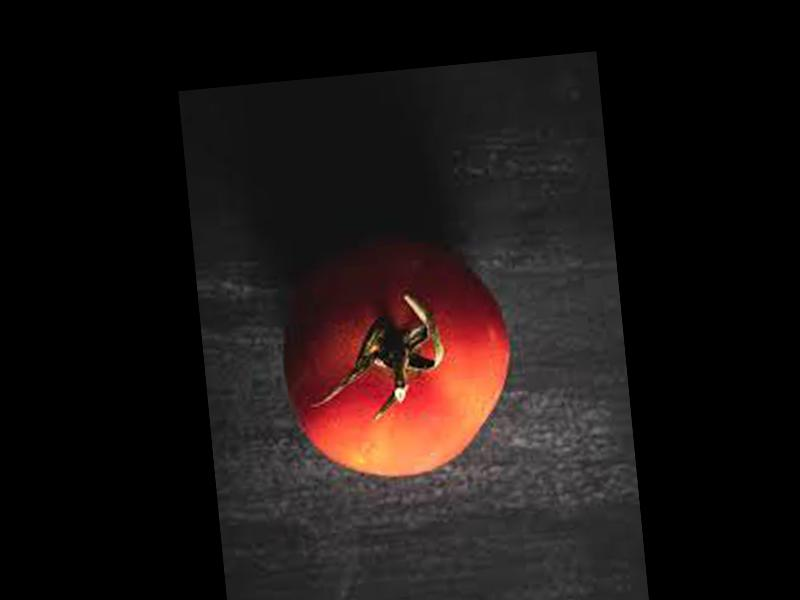Tomato: (276, 232, 520, 487)
